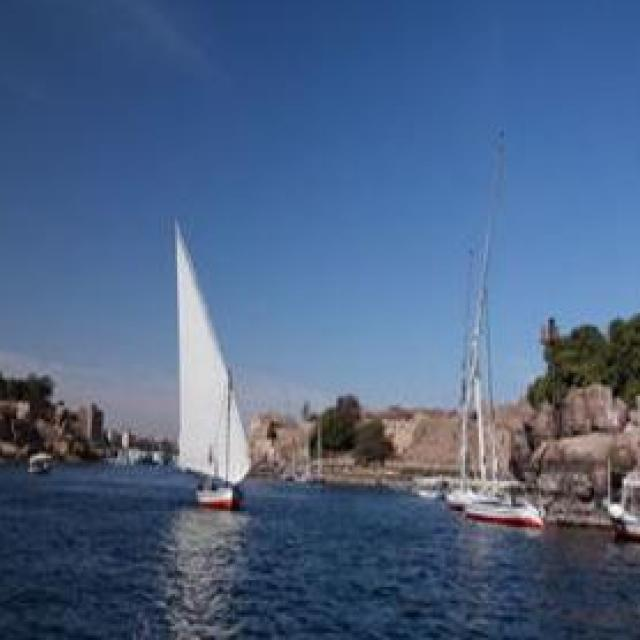sailboat: (148, 219, 300, 516)
